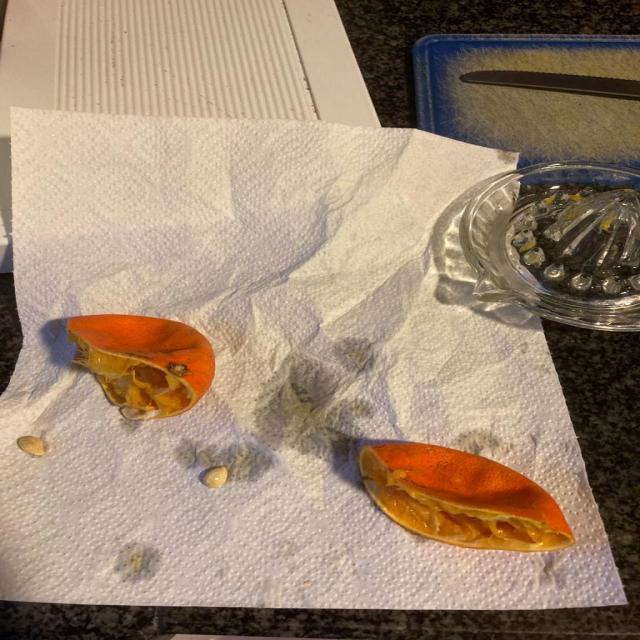kitchen paper: (0, 103, 635, 609)
